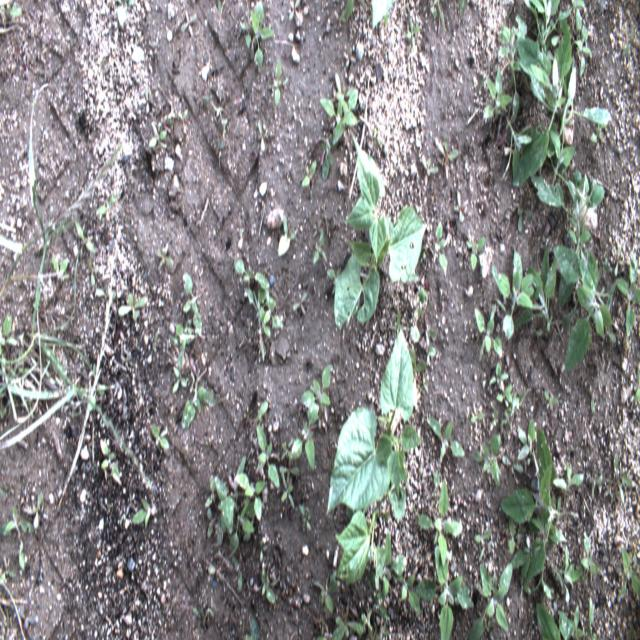crop: (328, 326, 427, 513), (334, 132, 426, 330), (335, 463, 407, 593), (371, 0, 397, 32)
weed: (0, 203, 150, 484), (0, 140, 122, 302), (511, 22, 611, 188), (58, 250, 115, 506), (500, 426, 568, 587), (29, 82, 84, 261), (552, 244, 613, 373), (531, 158, 604, 261), (0, 303, 55, 439), (0, 384, 115, 449), (414, 544, 475, 640), (491, 248, 540, 338), (416, 481, 464, 566), (467, 561, 514, 638), (515, 247, 557, 331), (243, 277, 283, 362), (228, 480, 264, 559), (546, 123, 578, 207), (523, 1, 573, 54), (503, 93, 533, 181), (509, 504, 541, 583), (496, 14, 527, 94), (180, 378, 220, 430), (615, 254, 639, 340), (290, 404, 318, 476), (248, 0, 273, 75), (4, 376, 80, 400), (428, 416, 466, 462), (299, 361, 335, 408), (554, 543, 582, 603), (571, 0, 593, 76), (234, 473, 266, 524), (483, 66, 514, 118), (474, 304, 502, 361), (255, 421, 279, 487), (382, 534, 407, 597), (390, 567, 422, 616), (473, 433, 502, 487), (1, 579, 27, 639), (500, 388, 530, 437), (332, 90, 358, 146), (232, 256, 270, 292), (182, 273, 203, 337), (4, 504, 23, 572), (616, 545, 640, 597), (215, 473, 235, 534), (313, 569, 340, 614), (580, 528, 602, 583), (99, 438, 122, 487), (368, 579, 391, 628), (612, 453, 633, 505), (228, 454, 246, 513), (169, 323, 196, 360), (334, 70, 359, 108), (553, 461, 584, 491), (436, 135, 458, 177), (331, 615, 366, 640), (434, 217, 448, 278), (118, 293, 147, 322), (537, 604, 561, 639), (277, 212, 296, 256), (74, 217, 94, 257), (516, 418, 535, 459), (465, 236, 486, 272), (25, 492, 45, 528), (606, 282, 617, 346), (532, 567, 552, 600), (172, 354, 188, 394), (0, 313, 18, 347), (548, 15, 567, 47), (132, 498, 152, 528), (261, 565, 276, 605), (567, 604, 584, 639), (279, 452, 300, 480), (0, 520, 36, 536), (356, 608, 374, 640), (488, 360, 509, 387), (280, 469, 294, 509), (313, 228, 328, 265), (320, 97, 342, 122), (321, 140, 334, 182), (368, 572, 385, 604), (149, 422, 169, 449), (501, 450, 523, 474), (406, 17, 421, 52), (496, 379, 514, 408), (388, 309, 404, 341), (157, 242, 174, 272), (95, 193, 118, 215), (149, 120, 167, 148), (454, 190, 468, 226), (250, 401, 269, 427), (585, 598, 597, 639), (430, 0, 445, 32), (558, 610, 574, 640), (420, 152, 439, 177), (18, 604, 36, 630), (301, 158, 317, 187), (273, 56, 282, 107), (203, 473, 216, 508), (180, 10, 197, 36), (51, 256, 69, 280), (117, 0, 134, 25), (409, 348, 426, 373), (159, 104, 173, 134), (245, 612, 260, 640), (622, 22, 634, 56), (0, 598, 29, 612), (94, 282, 116, 300), (613, 242, 624, 278), (192, 607, 214, 625), (517, 208, 532, 234), (239, 19, 251, 51), (298, 504, 311, 532), (326, 267, 340, 293), (0, 1, 22, 17), (94, 362, 105, 394), (256, 117, 266, 152), (591, 119, 605, 144), (208, 563, 226, 582), (338, 0, 354, 21), (508, 514, 516, 556), (233, 555, 242, 592), (292, 292, 307, 314), (411, 308, 420, 344), (524, 457, 538, 480), (207, 507, 217, 539), (472, 526, 492, 542), (424, 330, 436, 356), (0, 591, 8, 630), (0, 568, 18, 585), (288, 0, 301, 23), (519, 575, 530, 602), (87, 256, 96, 288), (217, 514, 226, 546), (544, 389, 558, 409), (592, 473, 602, 501), (632, 369, 640, 403), (417, 286, 425, 318), (257, 540, 268, 562), (604, 476, 616, 496), (280, 442, 293, 459), (516, 519, 524, 546), (588, 386, 596, 412), (478, 537, 485, 566), (530, 478, 542, 493), (376, 626, 389, 639), (432, 470, 440, 491), (491, 406, 499, 426), (144, 88, 150, 114), (177, 108, 188, 121), (469, 412, 483, 422), (460, 0, 468, 17), (4, 484, 15, 496), (546, 48, 556, 60), (19, 368, 31, 377), (29, 403, 34, 420), (217, 0, 222, 15)
